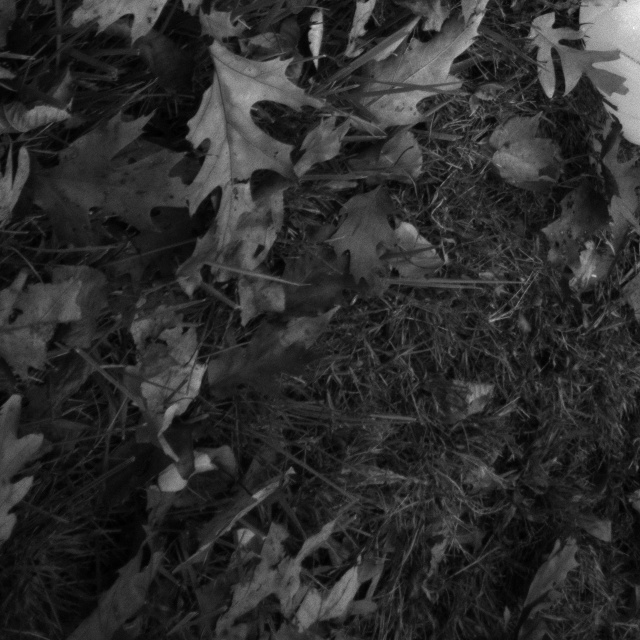can: (577, 0, 640, 185)
